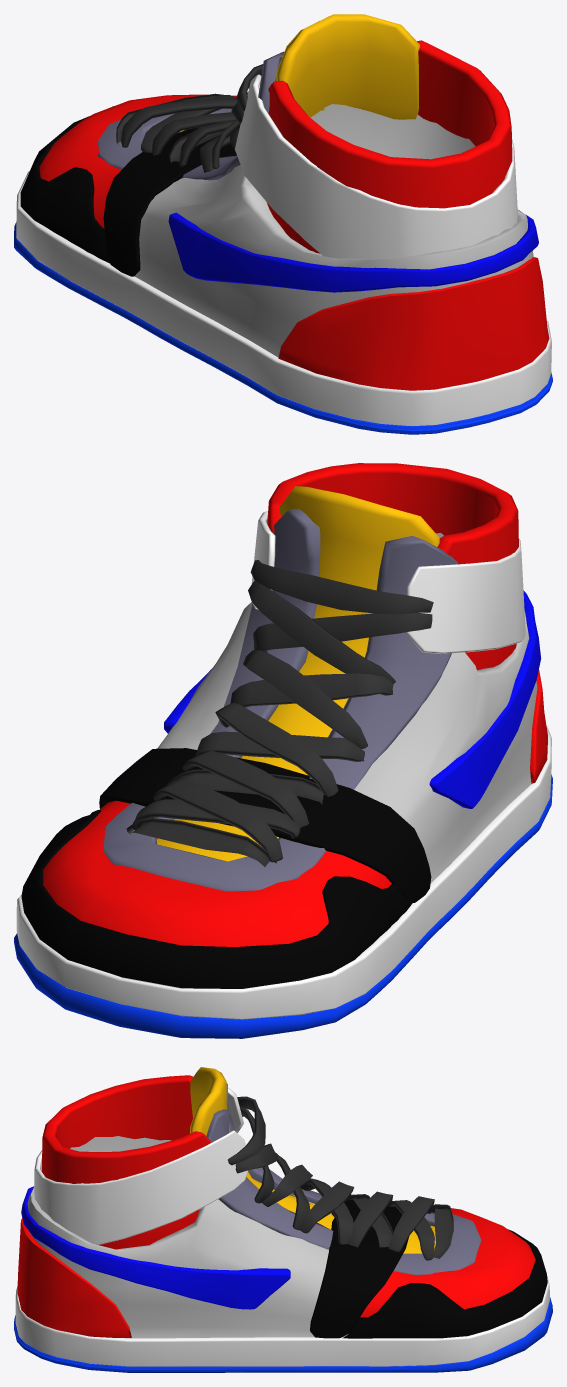
File: Air_Jordan.fbx
The picture shows the model from 3 angles, top to bottom: view 1: azimuth 30°, elevation 25°; view 2: azimuth 150°, elevation 25°; view 3: azimuth 270°, elevation 25°; orthographic projection. The views are drawn at different scales.
Visible parts, largest first — view 1: Shose_Body2, Back, Lower_Cover, Upper_Cover1, Lace_Cover, Logo, Shose_Lace, Sides, Bottom, Under_Cover, Lace_Panel; view 2: Shose_Body2, Shose_Lace, Lace_Panel, Bottom, Lower_Cover, Sides, Lace_Cover, Upper_Cover1, Logo, Back; view 3: Shose_Body2, Lower_Cover, Upper_Cover1, Shose_Lace, Bottom, Logo, Back, Sides, Lace_Panel, Lace_Cover, Under_Cover.
Part boxes in pixels (x1=…): Shose_Body2: x1=14, y1=94, x2=552, y2=434; Back: x1=278, y1=257, x2=549, y2=390; Lower_Cover: x1=266, y1=40, x2=512, y2=253; Upper_Cover1: x1=235, y1=74, x2=517, y2=259; Lace_Cover: x1=179, y1=14, x2=419, y2=132; Logo: x1=168, y1=210, x2=538, y2=292; Shose_Lace: x1=116, y1=64, x2=263, y2=172; Sides: x1=103, y1=127, x2=236, y2=276; Bottom: x1=20, y1=106, x2=113, y2=263; Under_Cover: x1=310, y1=104, x2=475, y2=159; Lace_Panel: x1=97, y1=51, x2=284, y2=180; Shose_Body2: x1=14, y1=602, x2=552, y2=1038; Shose_Lace: x1=126, y1=560, x2=433, y2=866; Lace_Panel: x1=103, y1=509, x2=458, y2=891; Bottom: x1=21, y1=810, x2=412, y2=988; Lower_Cover: x1=267, y1=463, x2=518, y2=669; Sides: x1=99, y1=748, x2=431, y2=902; Lace_Cover: x1=156, y1=486, x2=439, y2=861; Upper_Cover1: x1=250, y1=511, x2=525, y2=654; Logo: x1=164, y1=590, x2=541, y2=808; Back: x1=530, y1=670, x2=547, y2=783; Shose_Body2: x1=14, y1=1187, x2=552, y2=1372; Lower_Cover: x1=41, y1=1075, x2=211, y2=1249; Upper_Cover1: x1=34, y1=1088, x2=247, y2=1244; Shose_Lace: x1=228, y1=1096, x2=453, y2=1260; Bottom: x1=343, y1=1229, x2=547, y2=1338; Logo: x1=21, y1=1186, x2=290, y2=1309; Back: x1=17, y1=1218, x2=131, y2=1337; Sides: x1=310, y1=1194, x2=408, y2=1338; Lace_Panel: x1=206, y1=1083, x2=481, y2=1274; Lace_Cover: x1=190, y1=1067, x2=435, y2=1253; Under_Cover: x1=70, y1=1136, x2=171, y2=1151.
Size of the model in its own units: 0.9754 by 0.9936 by 1.99.
